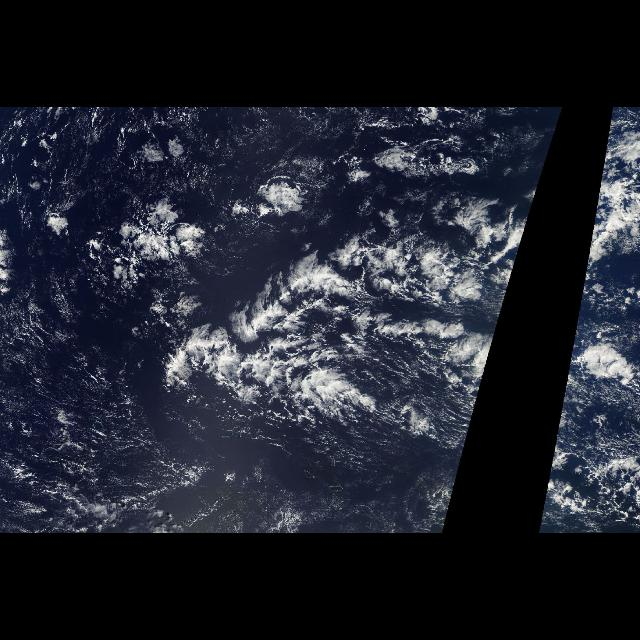Sugar: (8, 293, 464, 529), (61, 109, 386, 177)
